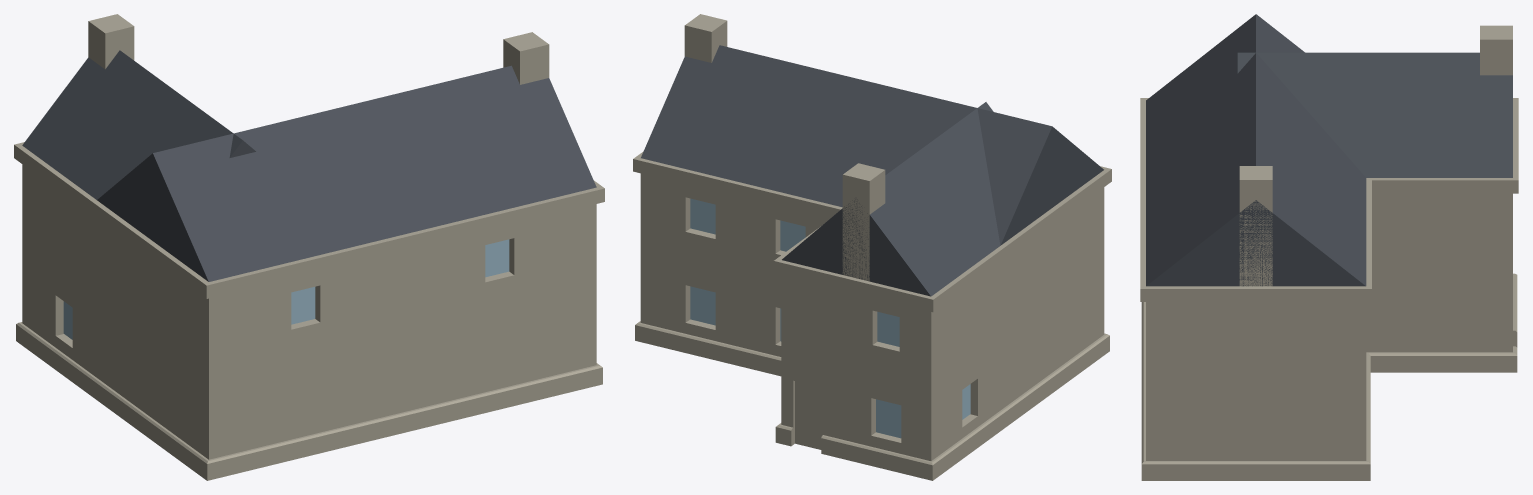
3 views of the same model, side by side, from view 1: azimuth 30°, elevation 25°; view 2: azimuth 150°, elevation 25°; view 3: azimuth 270°, elevation 25° (orthographic). The views are drawn at different scales.
Parts seen in each view (by area): view 1: body_stone, roof_slate, trim_stone, glass_glass (×2); view 2: body_stone, roof_slate, trim_stone, glass_glass (×5); view 3: roof_slate, body_stone, trim_stone.
Boxes of the visible parts, x1,y1,x2,y2 form: body_stone: (22, 14, 596, 459); roof_slate: (22, 50, 596, 281); trim_stone: (14, 142, 604, 480); glass_glass (×2): (291, 239, 509, 324); body_stone: (640, 14, 1104, 460); roof_slate: (641, 45, 1103, 296); trim_stone: (633, 151, 1111, 480); glass_glass (×5): (690, 198, 901, 438); roof_slate: (1146, 14, 1512, 286); body_stone: (1146, 25, 1512, 460); trim_stone: (1140, 98, 1518, 480).
Size of what is drawn, in the model's own units: 12.32 by 9 by 10.32.
